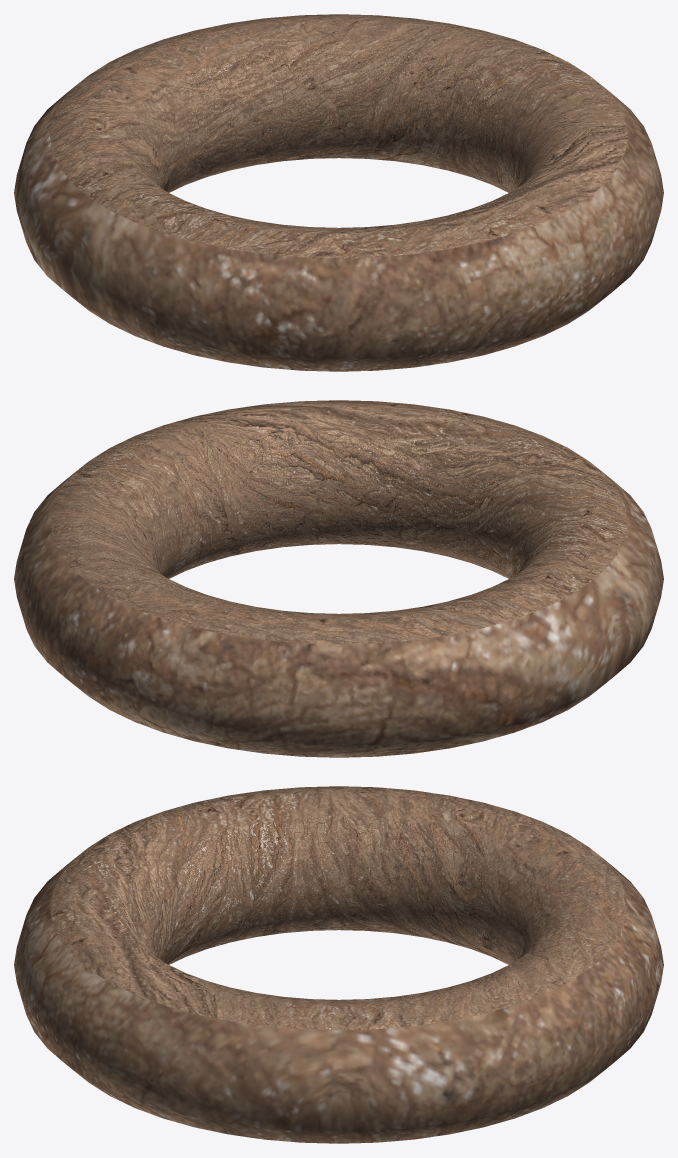
3 views of the same model, one above another, from view 1: azimuth 30°, elevation 25°; view 2: azimuth 150°, elevation 25°; view 3: azimuth 270°, elevation 25° (orthographic).
Visible parts, largest first — view 1: INTERACTIVE_Torus; view 2: INTERACTIVE_Torus; view 3: INTERACTIVE_Torus.
Part boxes in pixels (left/top/right/bottom): INTERACTIVE_Torus: left=14, top=14, right=663, bottom=371; INTERACTIVE_Torus: left=14, top=400, right=663, bottom=757; INTERACTIVE_Torus: left=14, top=786, right=663, bottom=1143.
Bounding box in the file's own units: 1.08 × 0.24 × 1.08.
Materials: 1 (1 with a texture image).
